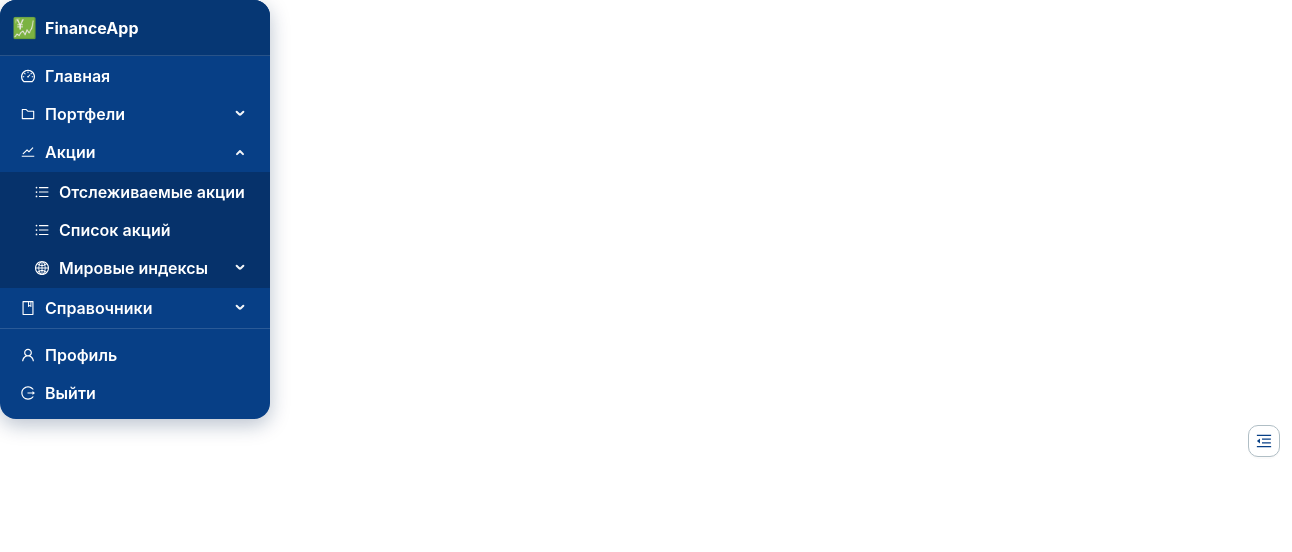
Test: AppSidebar real DOM interaction — Market Indices toggle › 1. Market Indices initially closed → real click on title opens it (aria-expanded=true, Управление visible)
What coordinates should you click on to do the following:
click the menu item "Мировые индексы"
I would click on:
 (122, 268)
Its box is x1=35 y1=258 x2=208 y2=278.
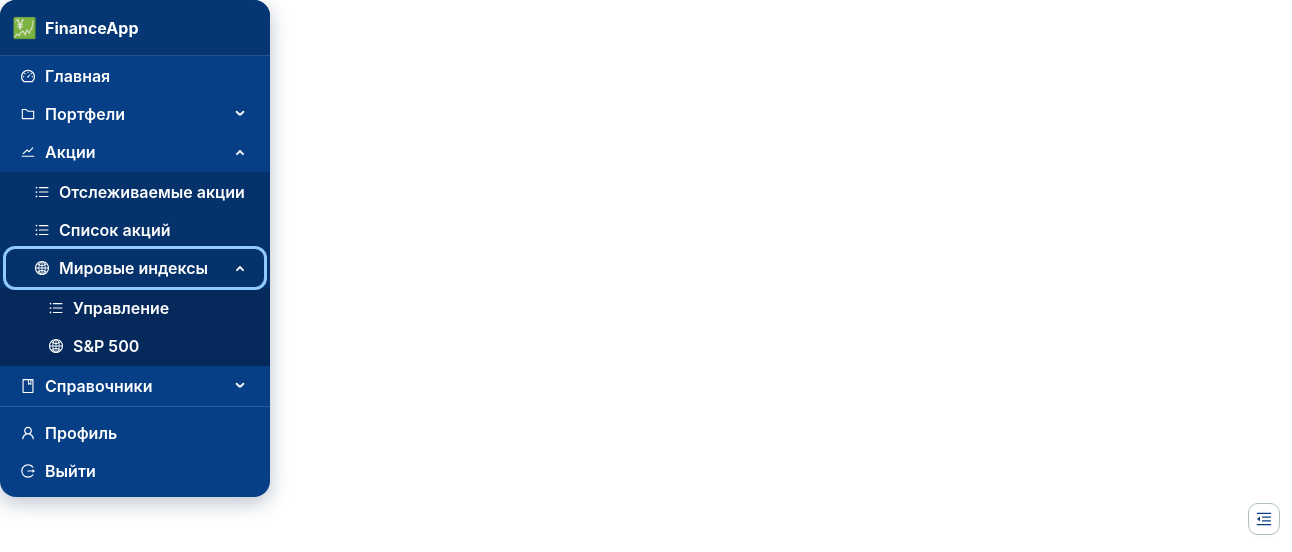
Now the text "Управление" is shown, box x1=73 y1=298 x2=169 y2=318
